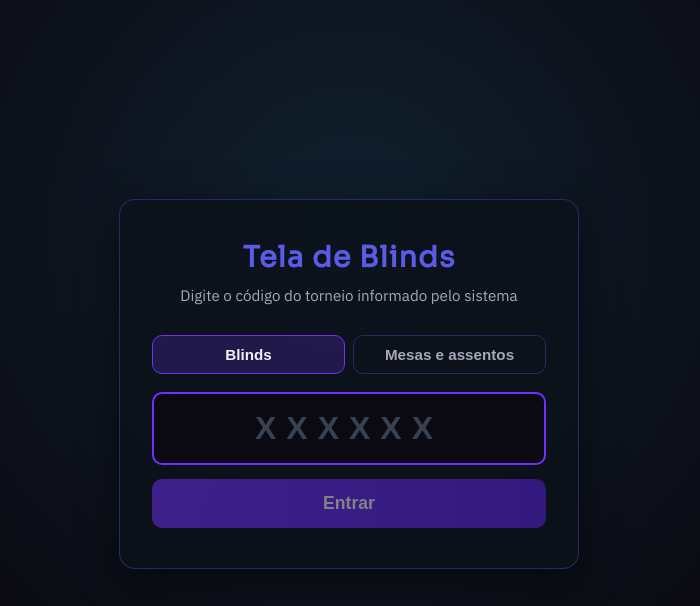
TVCode › código inválido avisa sem revelar nada do torneio
This screenshot has width=700, height=606.
In the field with placeholder "XXXXXX": (349, 428) x1=152 y1=392 x2=546 y2=465, type "ZZZZZZ"
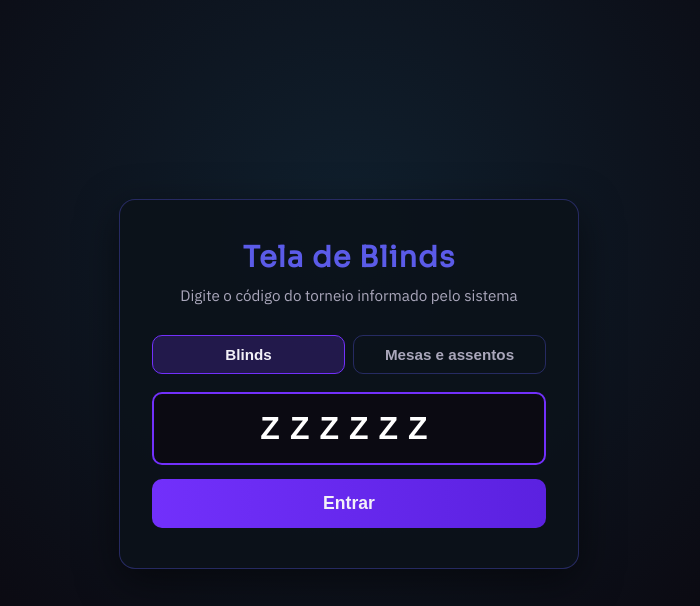
Click the button: (349, 503) x1=152 y1=479 x2=546 y2=528
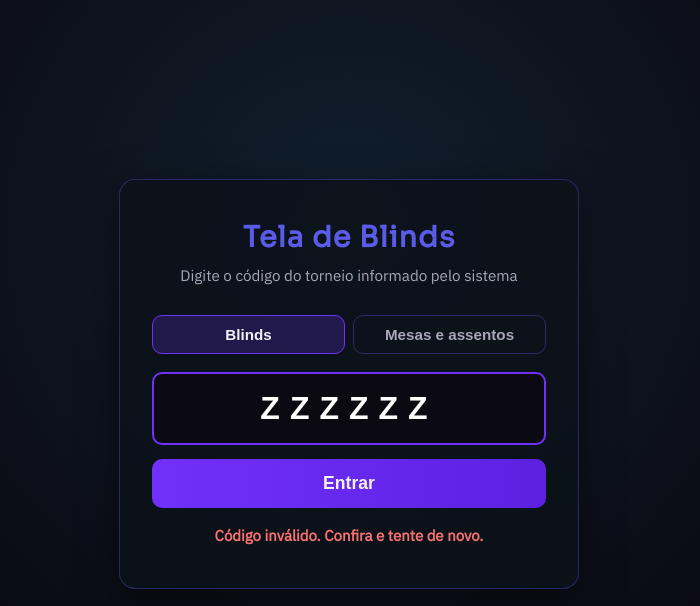
Expected: the text "Código inválido. Confira e tente de novo." is shown, x1=215 y1=526 x2=483 y2=545
